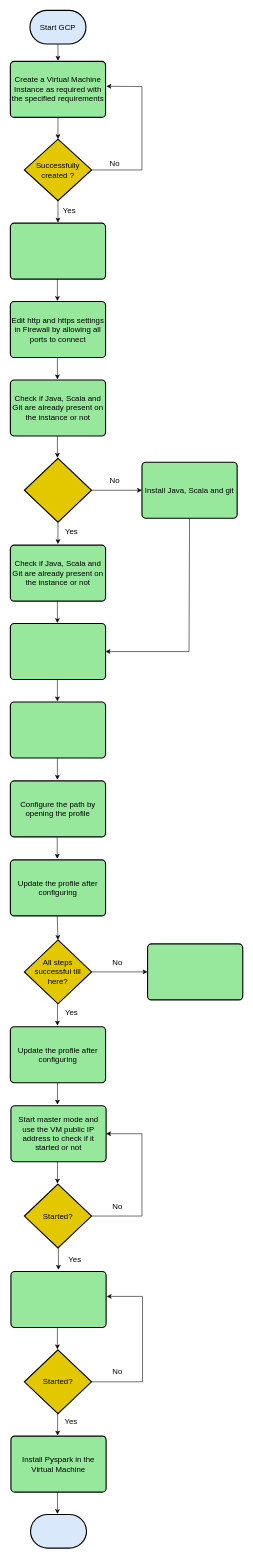
This 253x1558 diagram has some shape labels left out. Here are the shapes that lost their labels. From the top down, the box of each, then its label:
(10, 222, 106, 279): Open in browser window and give access to conenct with VM
(24, 458, 92, 522): Already present?
(10, 623, 106, 680): Install Apache Spark Binary by executing commands
(10, 701, 106, 758): Download the Apache Spark .tgz file, extract and move the files
(147, 943, 243, 1000): Check which step went wrong and try again from that step
(10, 1271, 106, 1328): Start slave mode and use the VM public IP address to check if it started or not
(30, 1514, 87, 1548): Stop instance and exit GCP
